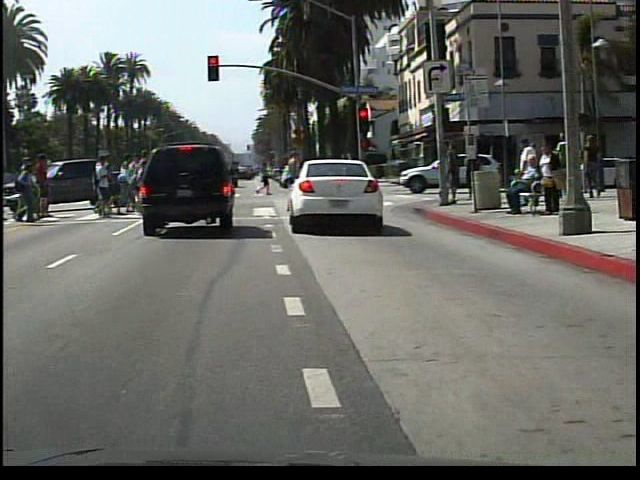person: (538, 139, 570, 218), (507, 154, 548, 215), (281, 147, 313, 214)
